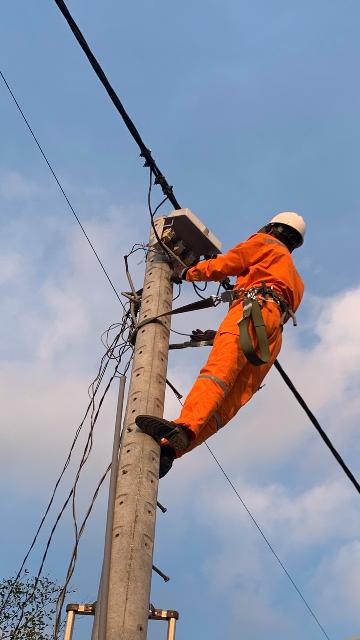gloves: (184, 323, 227, 345), (173, 261, 197, 283)
harness: (211, 275, 304, 333)
helmet: (261, 204, 312, 245)
shoes: (130, 409, 193, 455), (149, 447, 181, 477)
